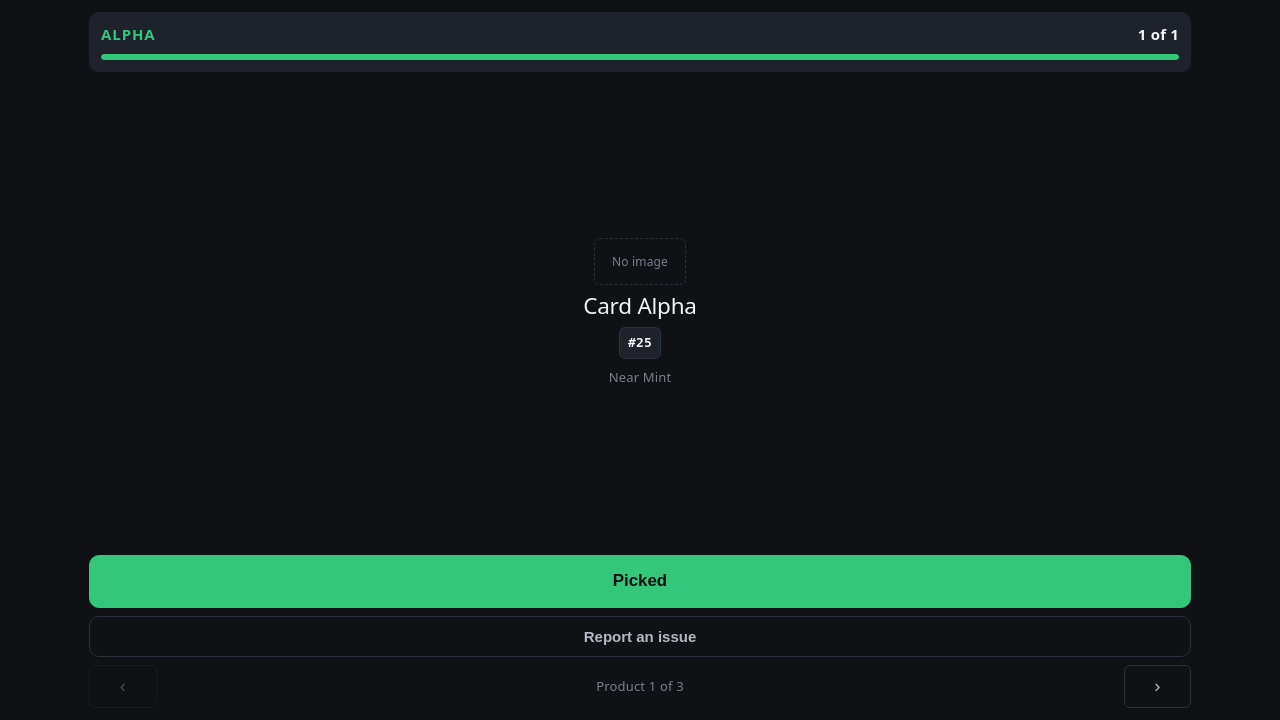
Test: FocusedPickView — moving is never blocked › announces a new box on the card rather than on a screen of its own
Click the button named "Next card".
click(1157, 686)  # box x1=1124 y1=665 x2=1191 y2=708
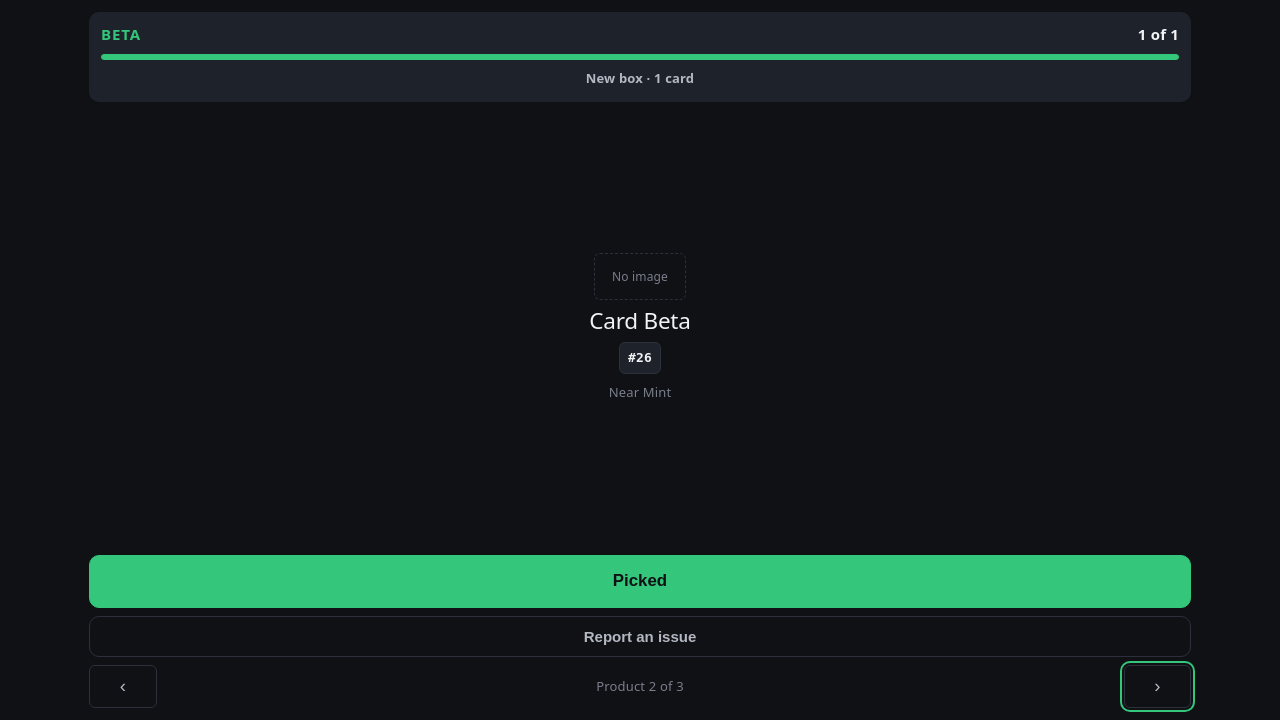
Now the heading "Card Beta" is shown, box x1=589 y1=308 x2=691 y2=334
Now the text "New box · 1 card" is shown, box x1=586 y1=69 x2=694 y2=87
